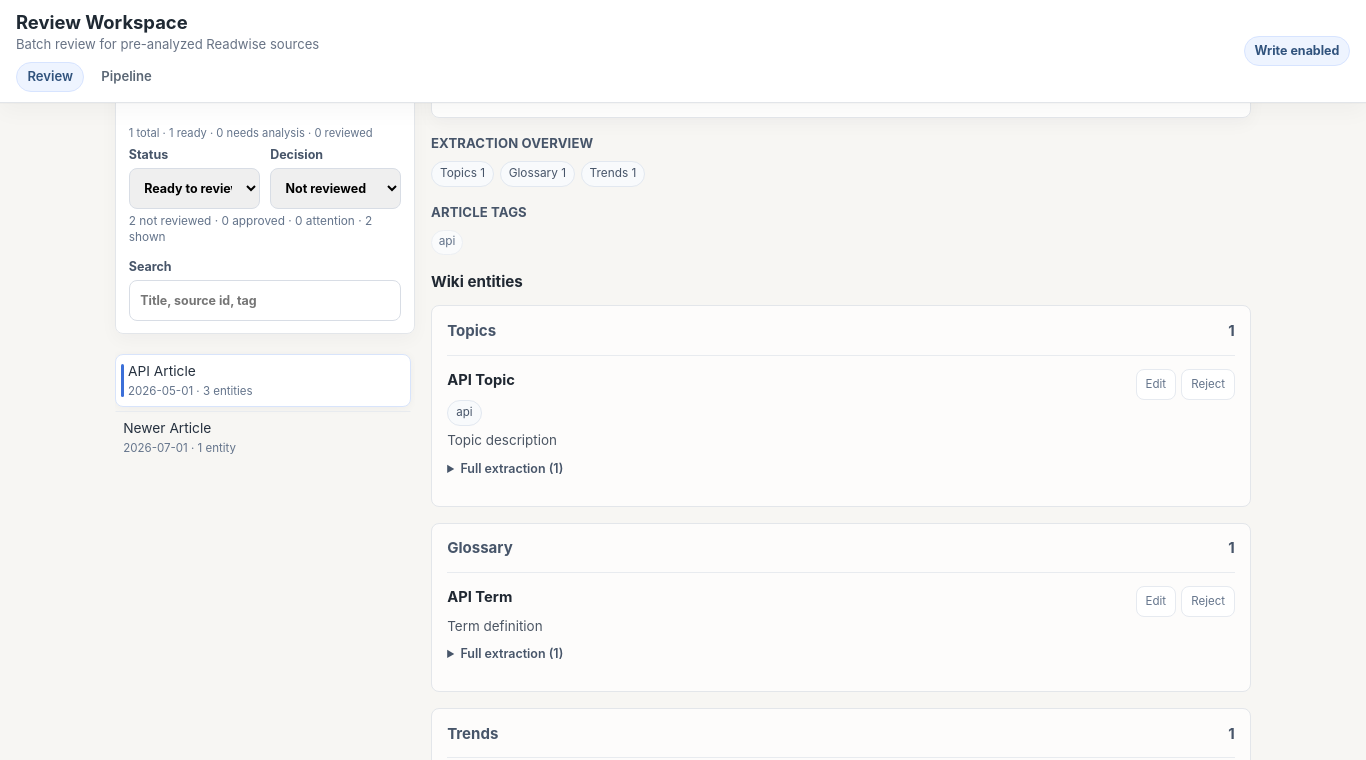
Test case: App › shows inline validation and server errors for entity edits
The image size is (1366, 760).
(page scrolled)
Click the button with aria-label "Edit API Topic" at (1156, 384), box [1136, 369, 1176, 400]
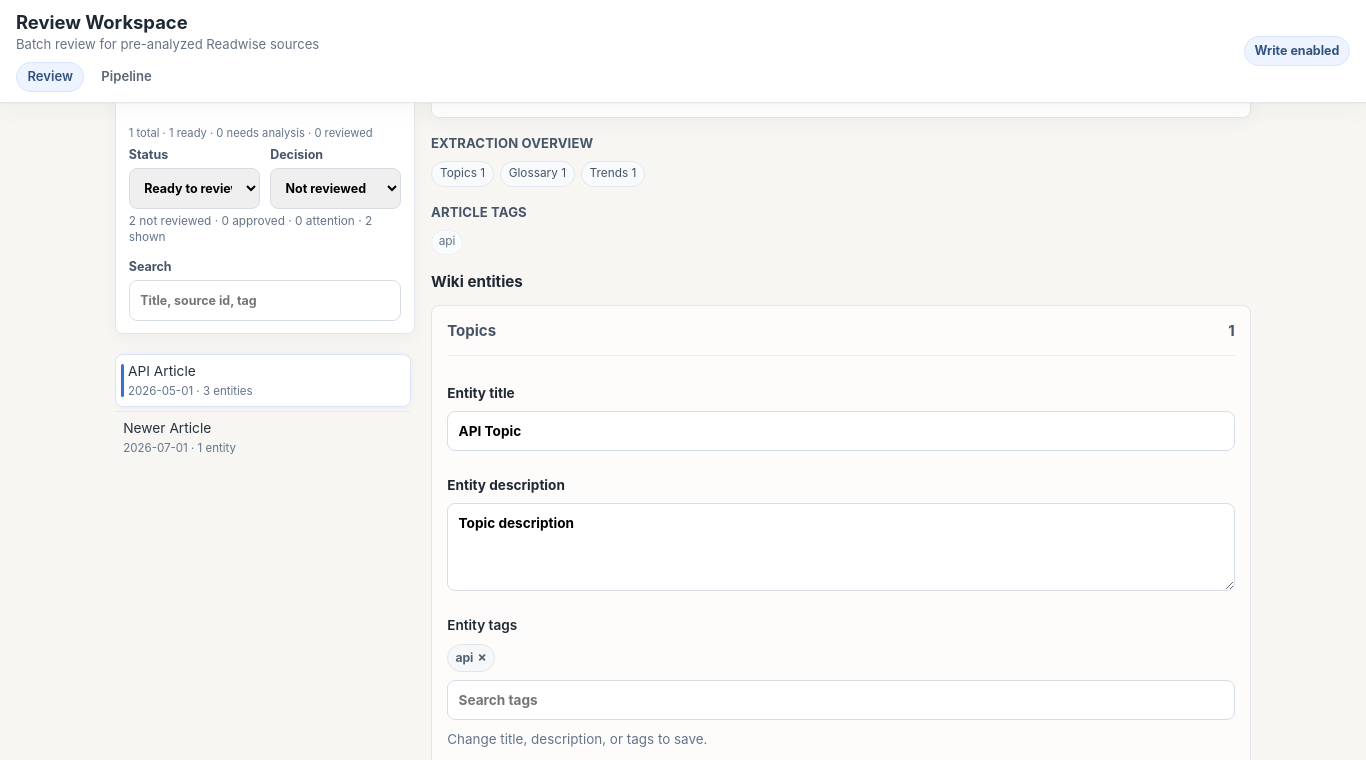
Clear the field labelled "Entity title" at (841, 431), box [447, 411, 1235, 451]
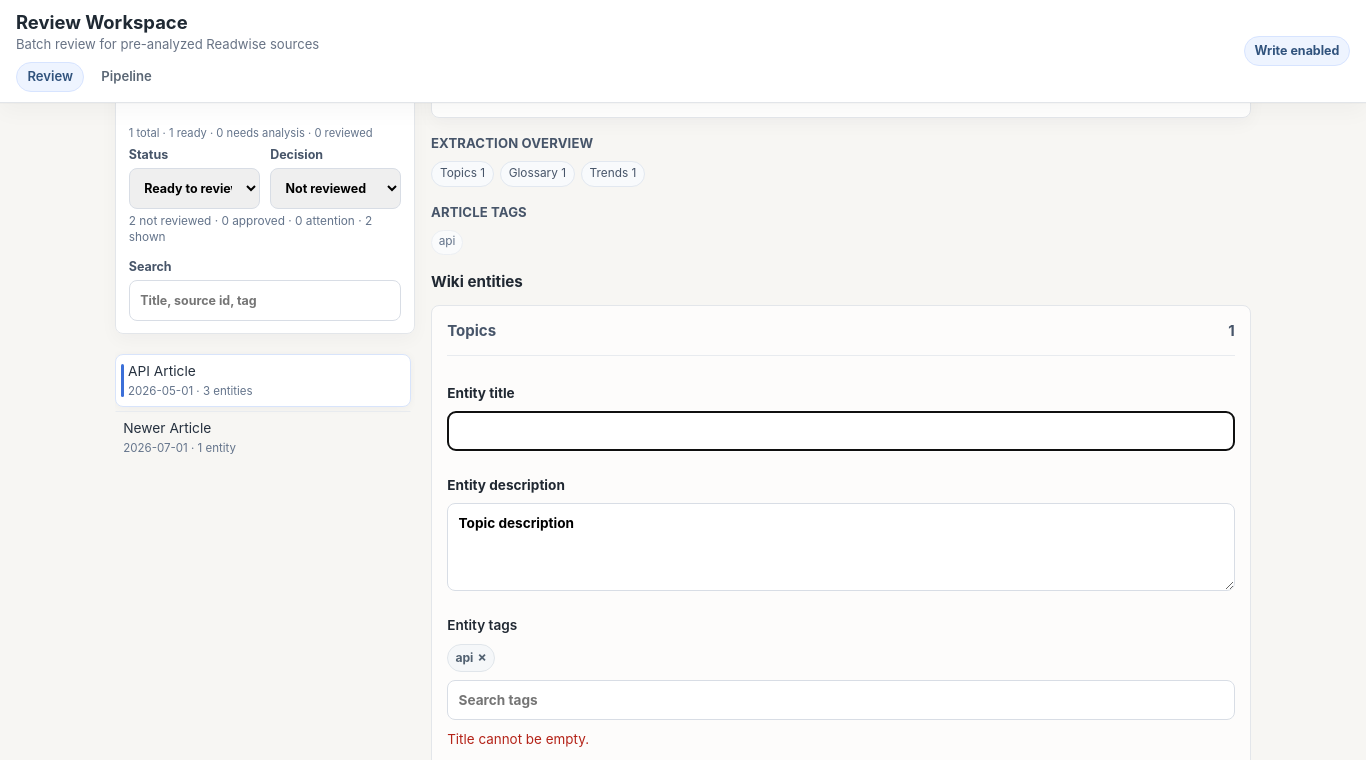
Check: the text "Title cannot be empty." is shown, box [447, 731, 589, 747]
Type "Valid title" into the field labelled "Entity title" at (841, 431), box [447, 411, 1235, 451]
(page scrolled)
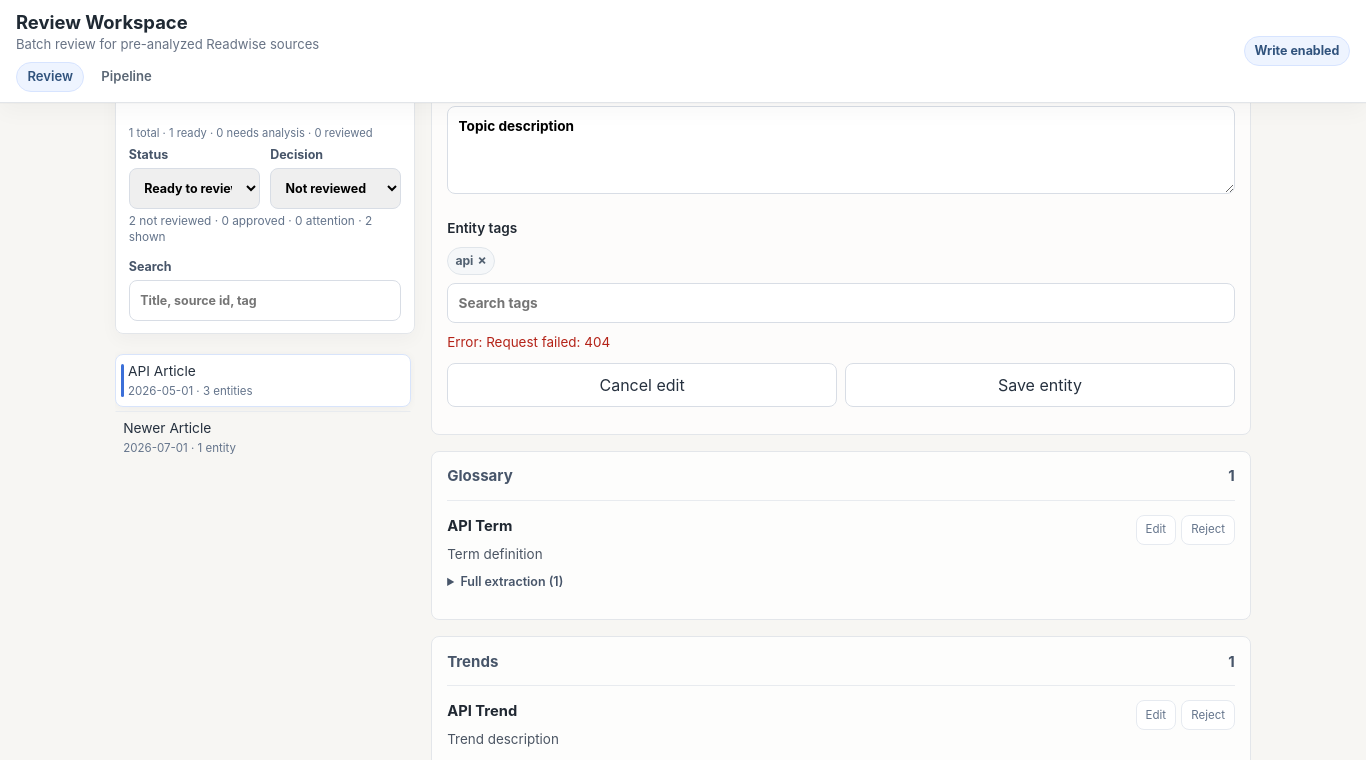
Click the button "Save entity" at (1040, 385), box [845, 363, 1235, 407]
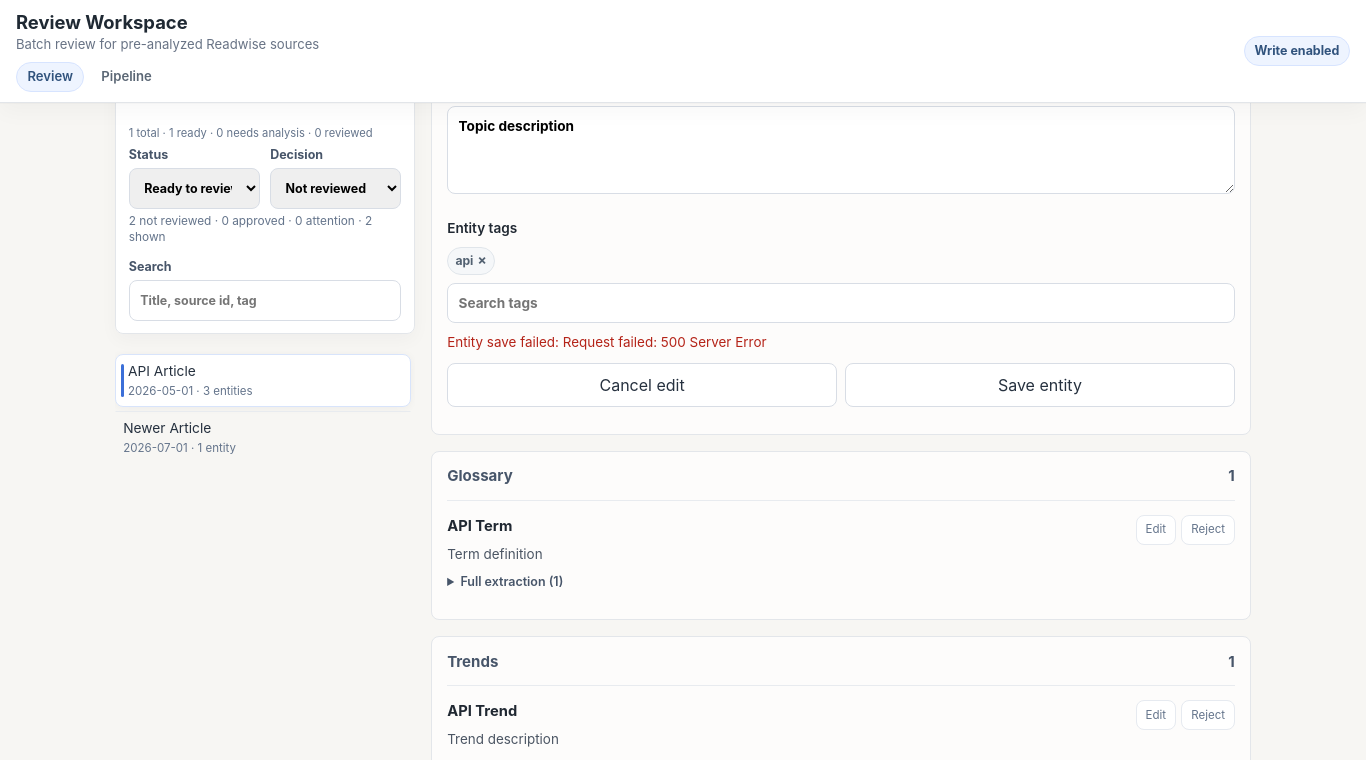
Check: the text "Entity save failed: Request failed: 500 Server Error" is shown, box [447, 334, 766, 350]
